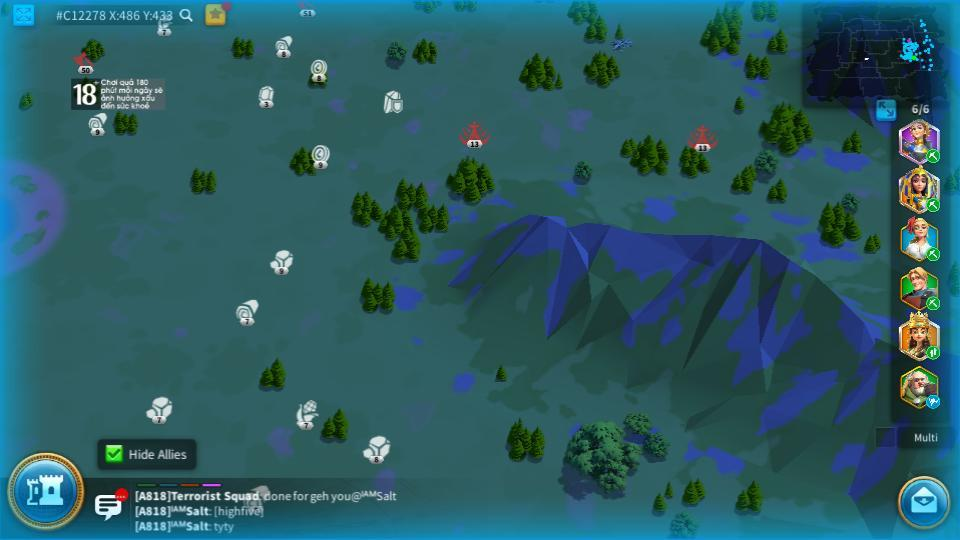gem-z-out: (255, 85, 276, 106)
march_farming: (924, 197, 939, 212), (925, 149, 941, 162)
march_idle: (925, 396, 942, 408)
march_marching: (925, 347, 941, 359)
